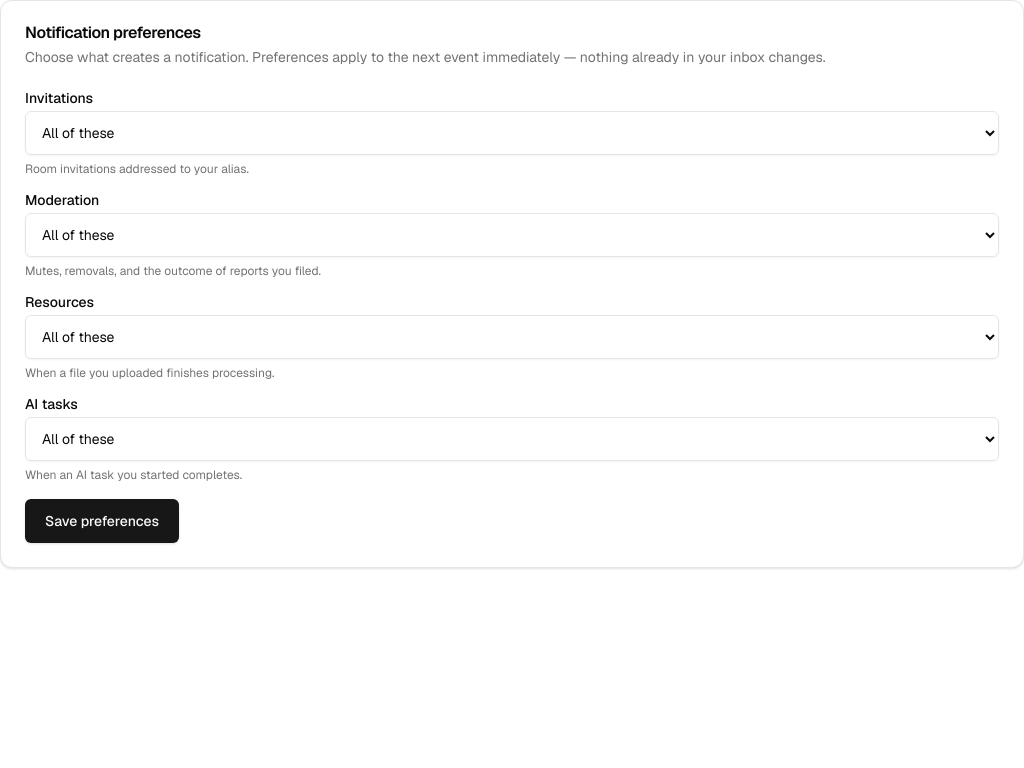
Scenario: PreferencesForm › surfaces a server failure without claiming a save
This screenshot has width=1024, height=768.
Click the button "Save preferences": [102, 521] box [25,499,179,543]
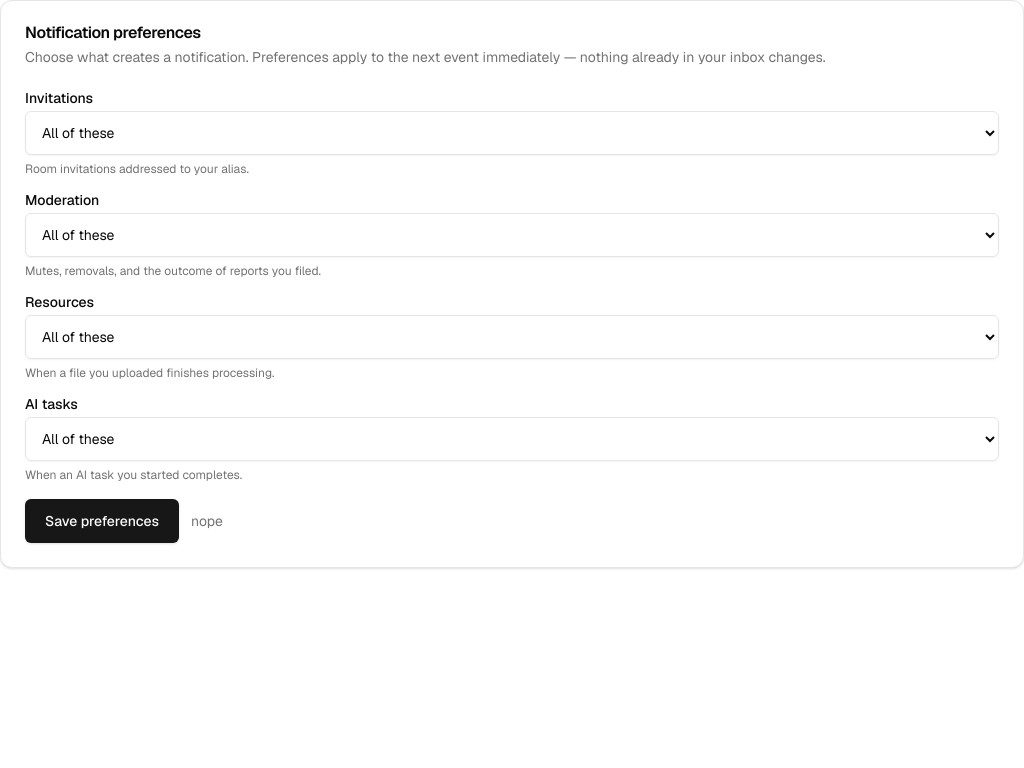
Expected: the message with test id "prefs-status" reads "nope", [191,512,223,530]
